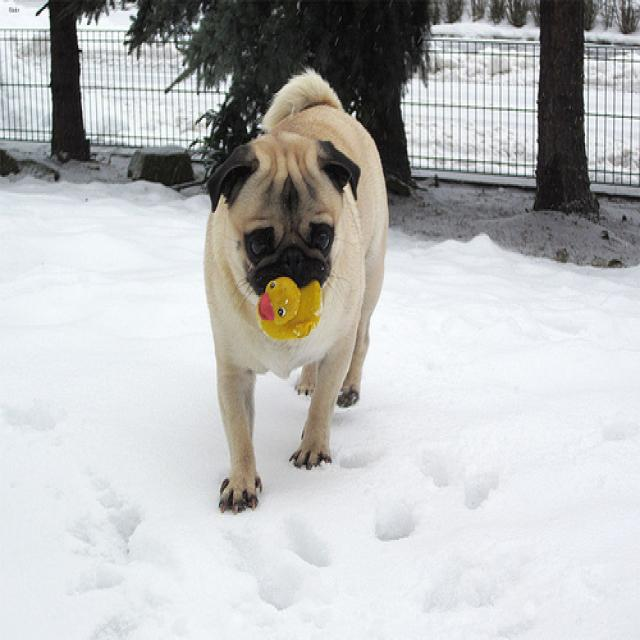dog-pug: (196, 57, 394, 526)
